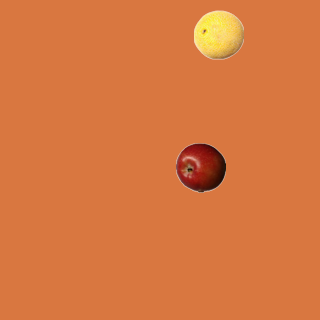Apple Braeburn: (175, 142, 225, 192)
Cantaloupe 1: (193, 9, 243, 59)
